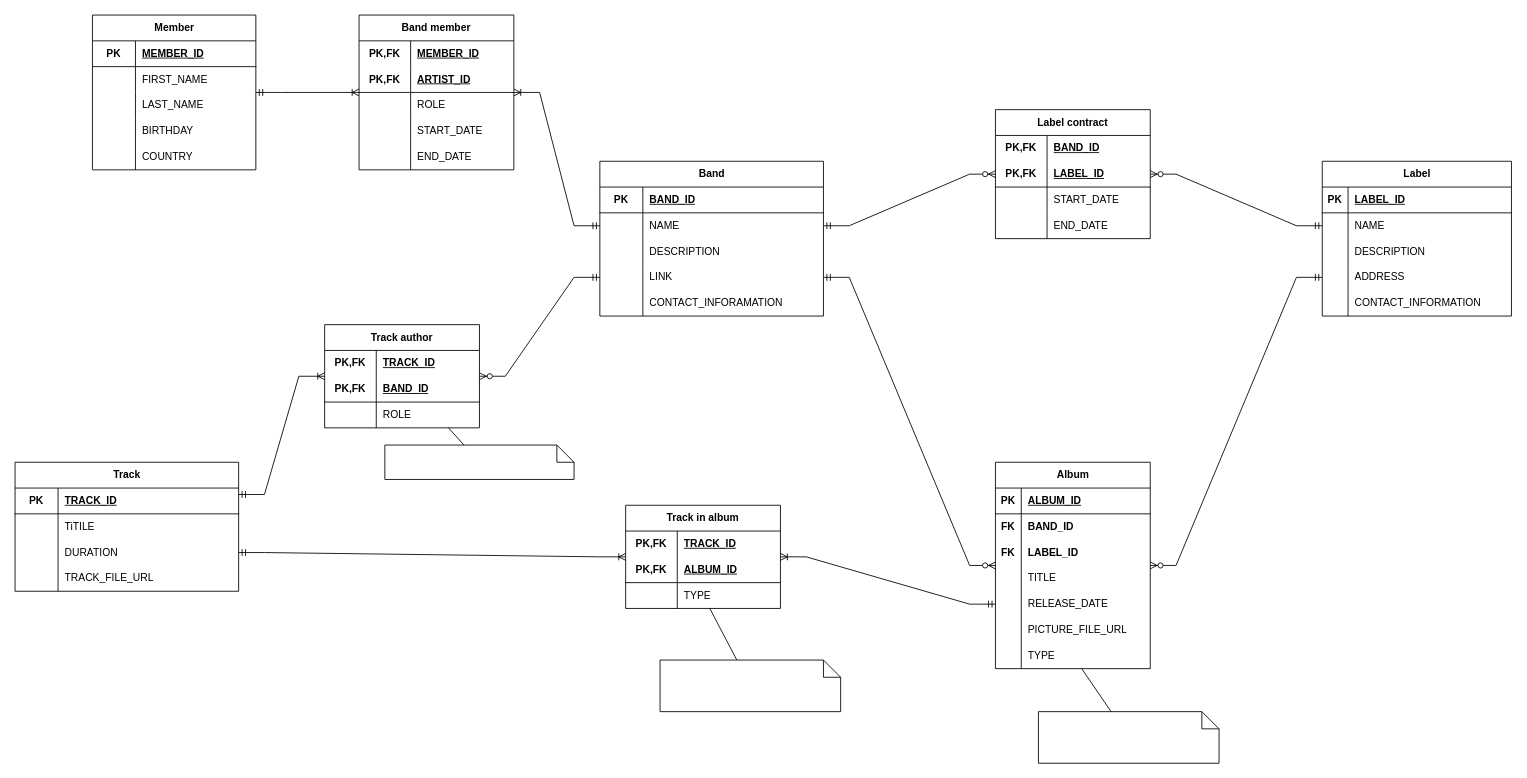
Image size: 1527x778. Some labels were removed from this diagram. The shapes that lost their labels are listed below. From the top down, each one's centre as x and y in pixels, then its label:
(479,461): ROLE: i.e. main, feat, remix
(750,685): TYPE: i.e. intro, outro, skit etc.
(1128,737): TYPE: i.e. album, single etc.
